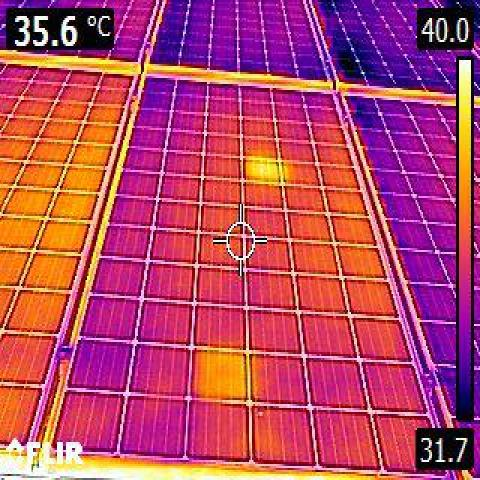fault: (245, 160, 279, 181)
